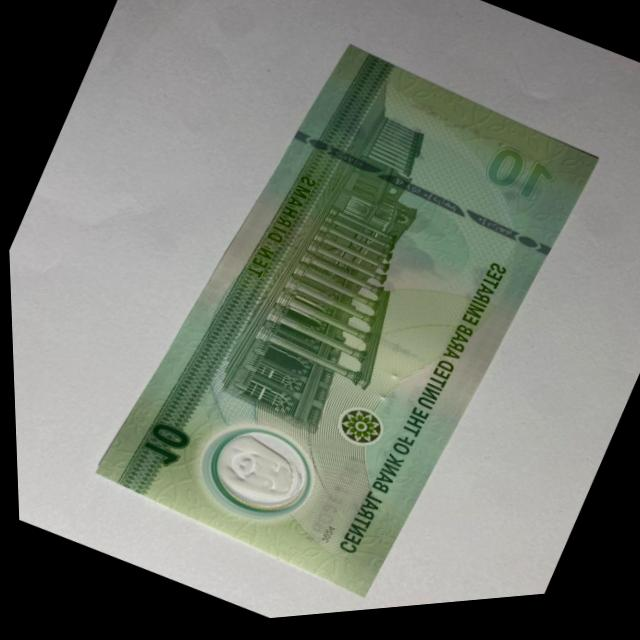10_AED: (96, 39, 601, 598)
